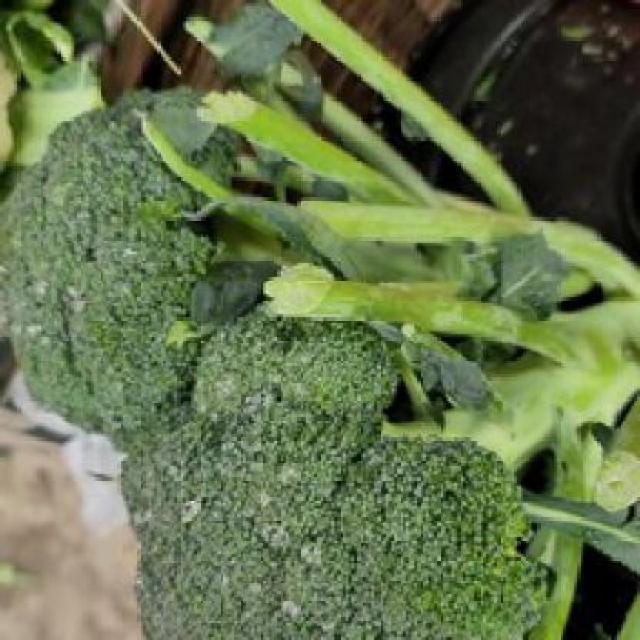broccoli: (134, 340, 640, 634), (3, 105, 379, 370)
